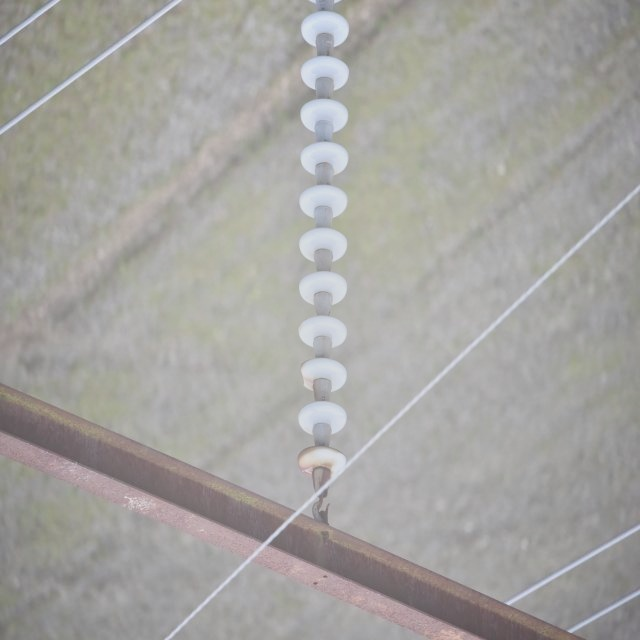broken: (298, 358, 309, 395)
insulator: (296, 13, 351, 476)
